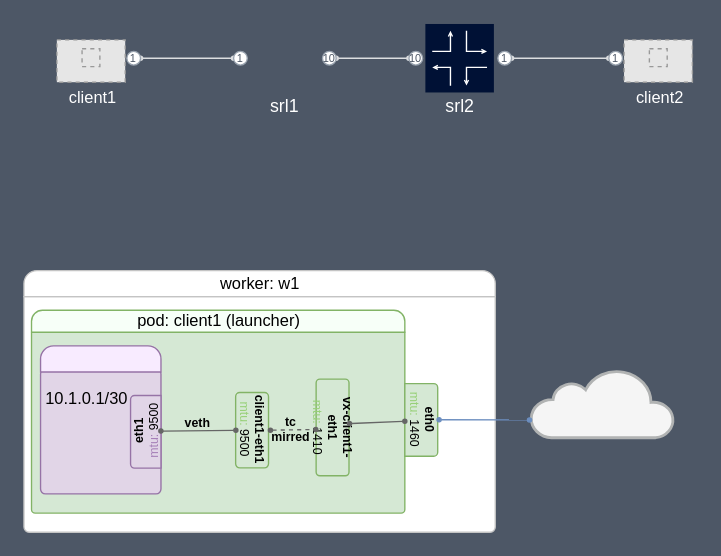
Image size: 721x556. Some labels were removed from this diagram. Grey dashed boxes stand in for pictures. The centre of each missing label's shape, as x and y in pixels:
"container: client1" belongs at point 100,358.
"k8s network" belongs at point 602,403.
